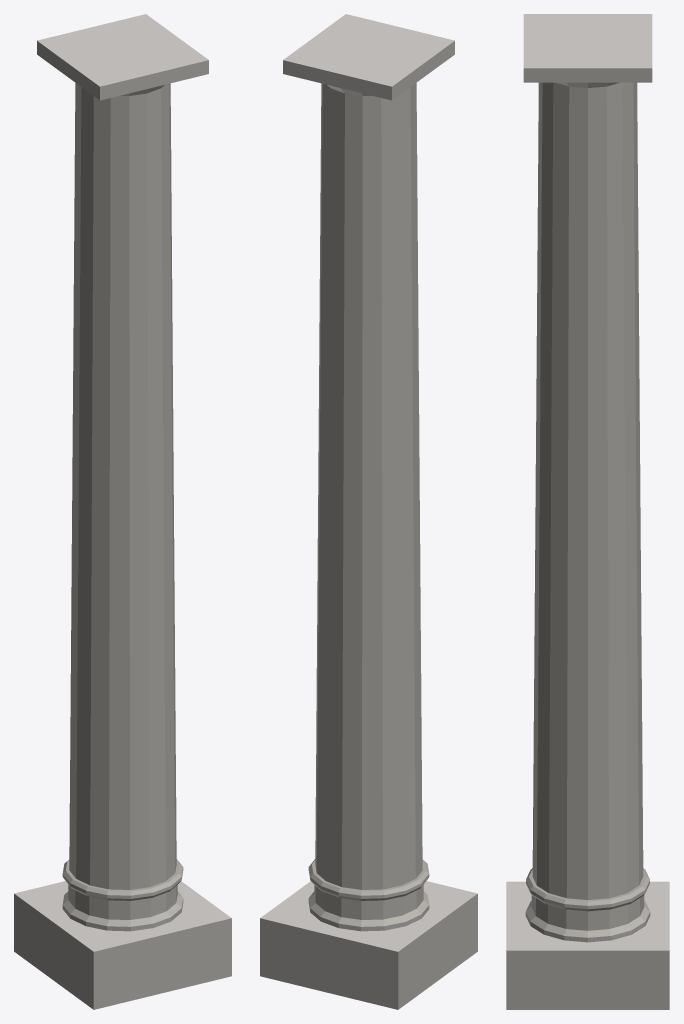
The model's file is pillar2.glb.
3 views of the same model, side by side, from view 1: azimuth 30°, elevation 25°; view 2: azimuth 150°, elevation 25°; view 3: azimuth 270°, elevation 25° (orthographic). The views are drawn at different scales.
Parts seen in each view (by area): view 1: Column1; view 2: Column1; view 3: Column1.
Boxes of the visible parts, x1,y1,x2,y2 form: Column1: (14, 14, 231, 1009); Column1: (260, 14, 477, 1009); Column1: (506, 14, 669, 1009).
Bounding box in the file's own units: 0.6327 × 4 × 0.6327.
1 material, 1 textured.
